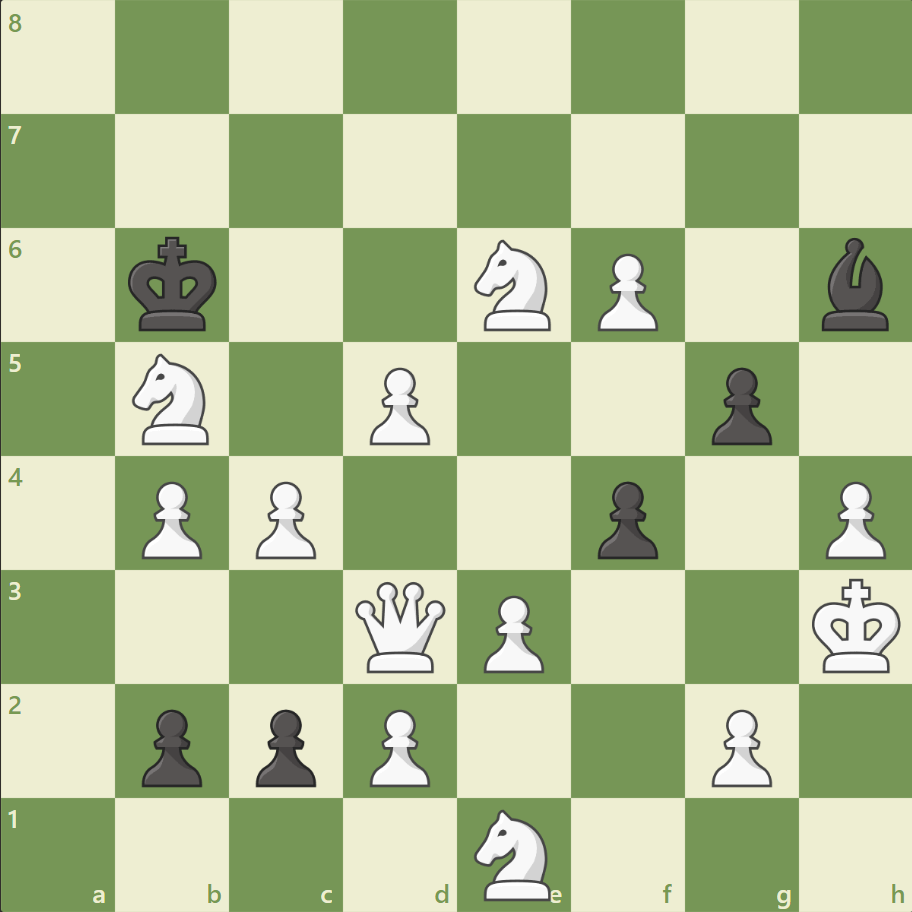K: (806, 571, 906, 679)
N: (124, 348, 222, 450), (465, 234, 562, 337), (465, 802, 562, 904)
P: (133, 473, 208, 564), (247, 473, 322, 564), (474, 586, 549, 677), (701, 700, 776, 791), (588, 246, 662, 337), (361, 359, 435, 450), (815, 473, 889, 564), (361, 700, 435, 791)
Q: (351, 576, 450, 676)
b: (812, 233, 896, 336)
k: (124, 231, 224, 339)
p: (701, 359, 776, 450), (133, 700, 208, 791), (247, 700, 322, 791), (588, 473, 662, 564)
